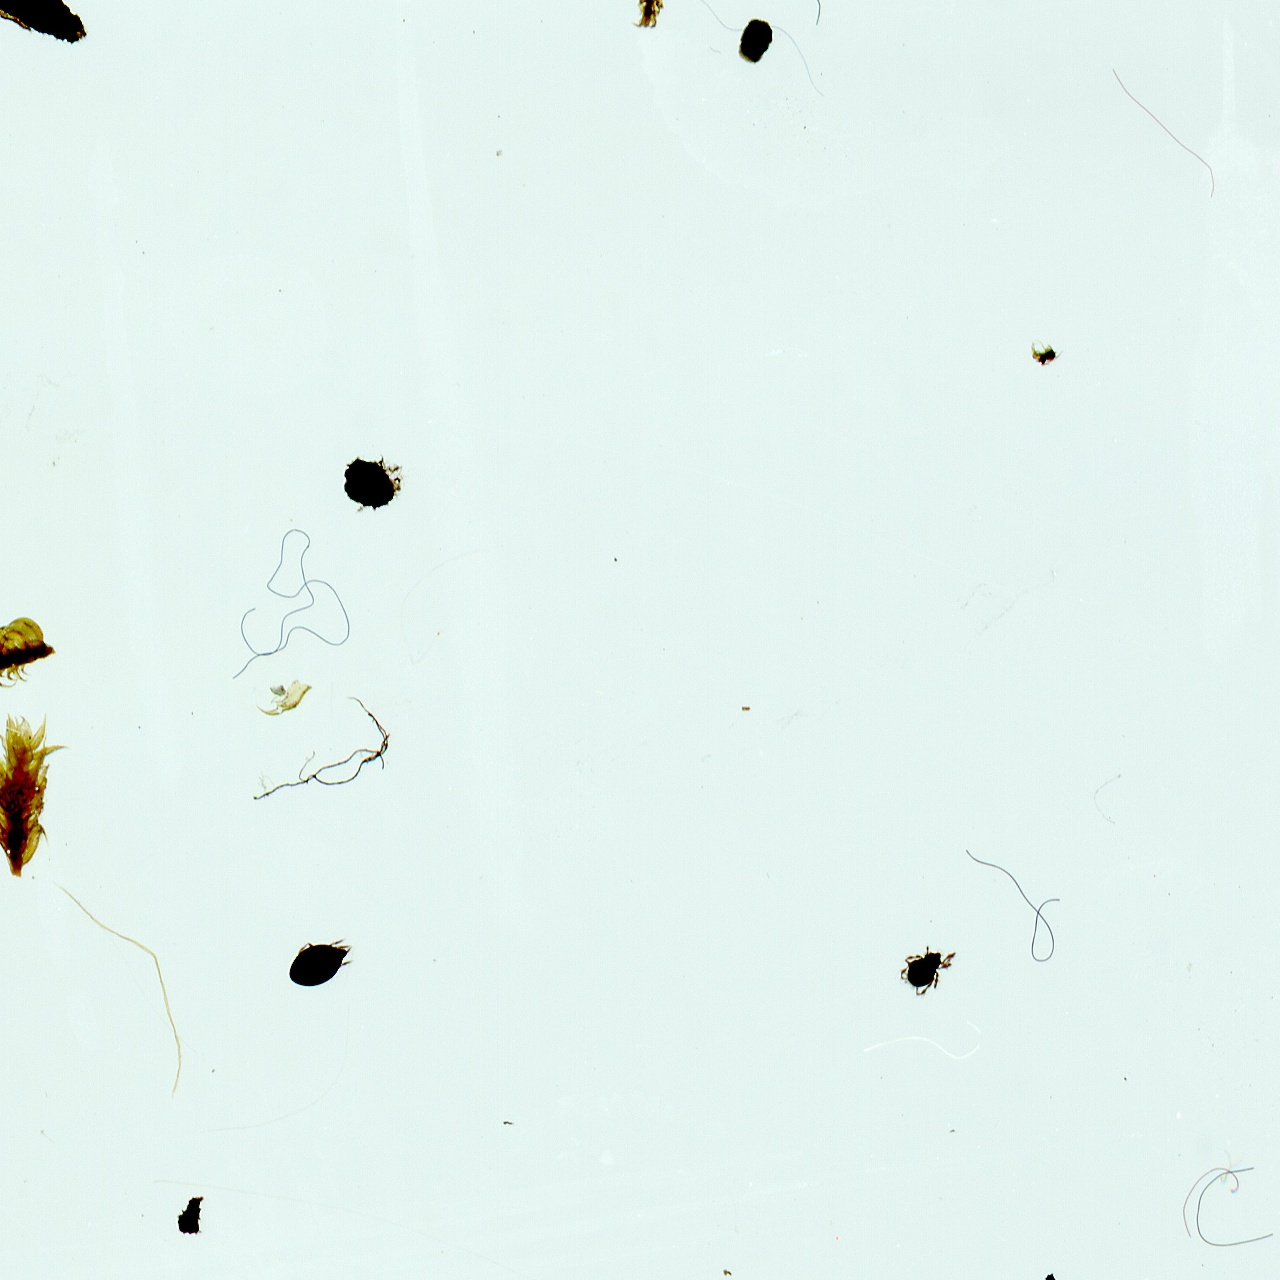arthropod: (275, 922, 365, 1000), (897, 941, 958, 999)
